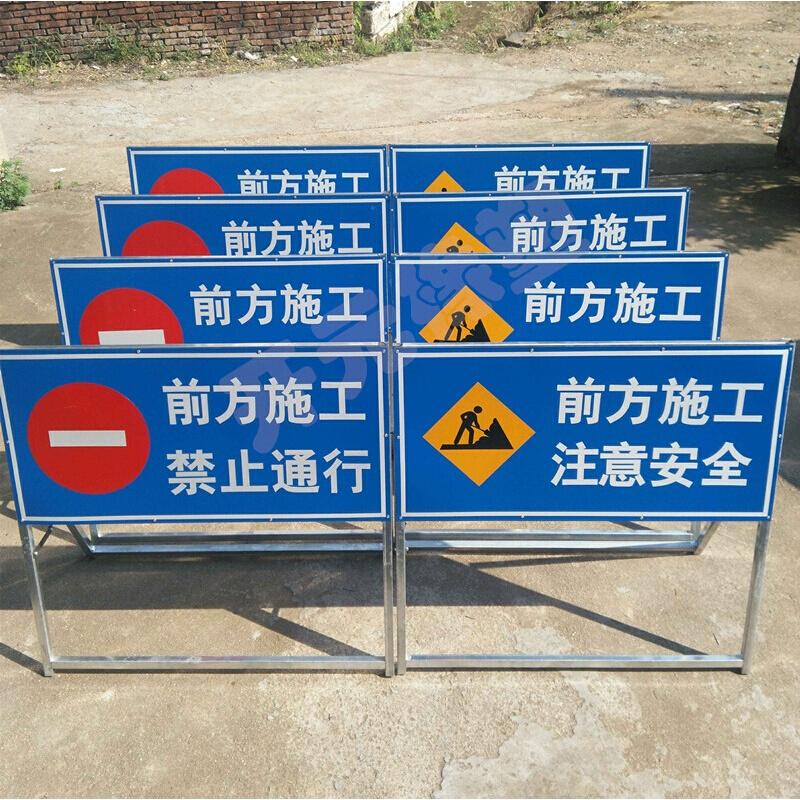sign: (399, 350, 769, 518), (5, 358, 381, 516), (397, 261, 717, 348), (53, 266, 384, 345), (100, 199, 385, 255), (402, 202, 682, 252), (400, 148, 644, 190), (132, 153, 383, 192)
